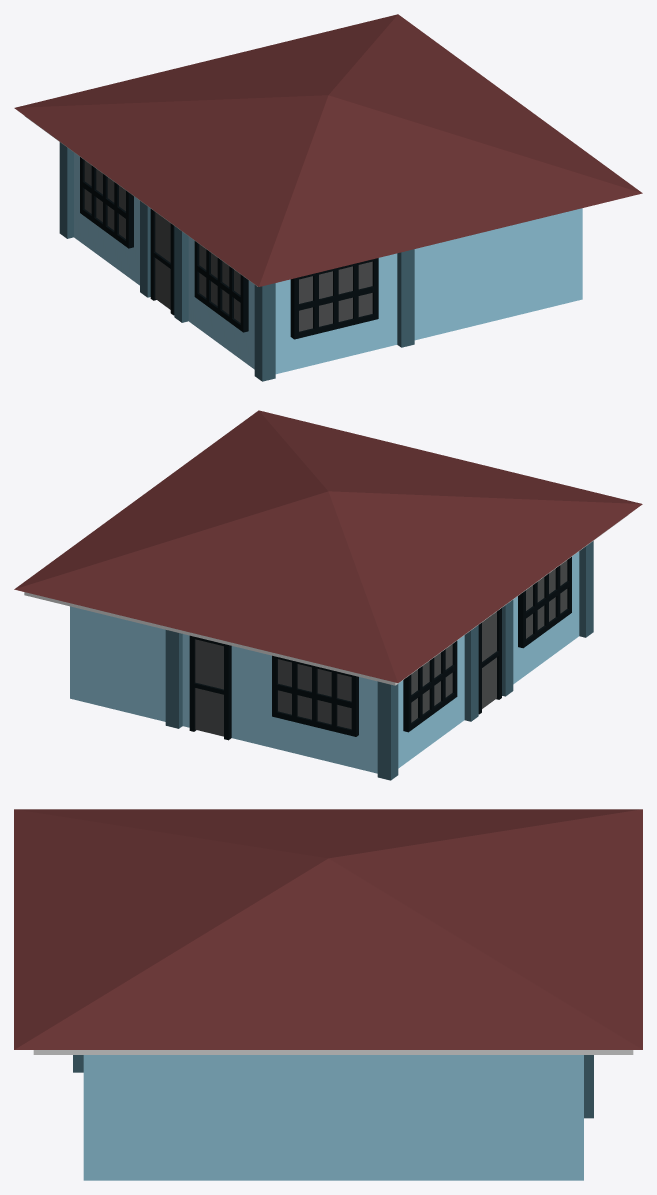
The model's file is Kubo.glb.
3 renders of one model, top to bottom at view 1: azimuth 30°, elevation 25°; view 2: azimuth 150°, elevation 25°; view 3: azimuth 270°, elevation 25°, orthographic. The views are drawn at different scales.
Parts seen in each view (by area): view 1: cube; view 2: cube; view 3: cube.
Boxes of the visible parts, <box> form: cube: <box>14,14,642,381</box>; cube: <box>14,410,642,780</box>; cube: <box>14,809,642,1180</box>.
Bounding box in the file's own units: 3.62 × 1.56 × 4.
Materials: 9 (6 with a texture image).
